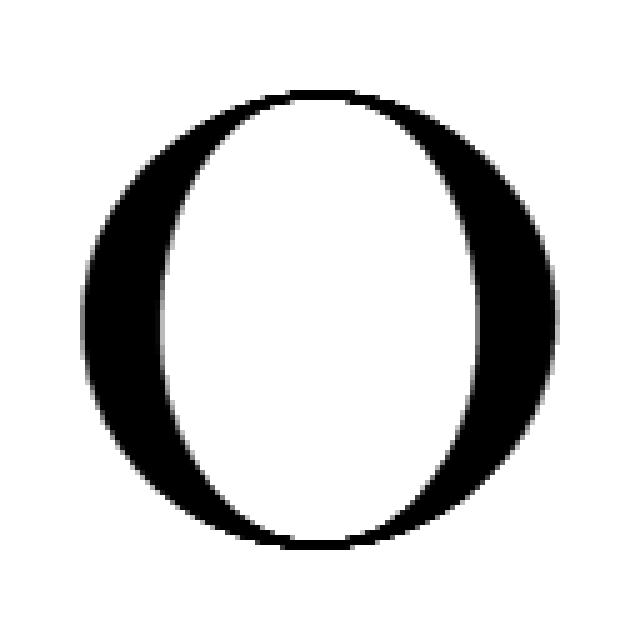O: (80, 90, 560, 555)
